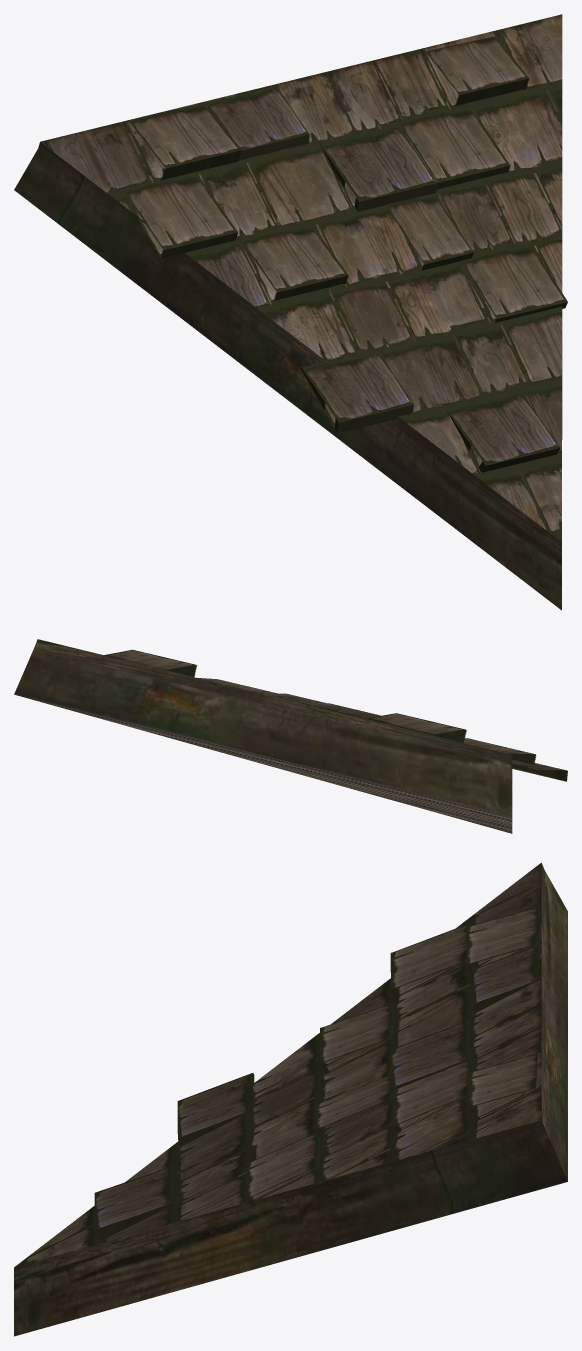
The picture shows the model from 3 angles, top to bottom: view 1: azimuth 30°, elevation 25°; view 2: azimuth 150°, elevation 25°; view 3: azimuth 270°, elevation 25°; orthographic projection. The views are drawn at different scales.
Parts seen in each view (by area): view 1: SM_BB_T1_Roof_Triangle_Shallow_Large_LOD0; view 2: SM_BB_T1_Roof_Triangle_Shallow_Large_LOD0; view 3: SM_BB_T1_Roof_Triangle_Shallow_Large_LOD0.
Boxes of the visible parts, box(x1,y1,x2,y2) form: SM_BB_T1_Roof_Triangle_Shallow_Large_LOD0: box(14, 14, 567, 610); SM_BB_T1_Roof_Triangle_Shallow_Large_LOD0: box(14, 639, 567, 833); SM_BB_T1_Roof_Triangle_Shallow_Large_LOD0: box(14, 862, 567, 1336).
Bounding box in the file's own units: 3.15 × 1.87 × 2.73.
3 materials, 3 textured.
